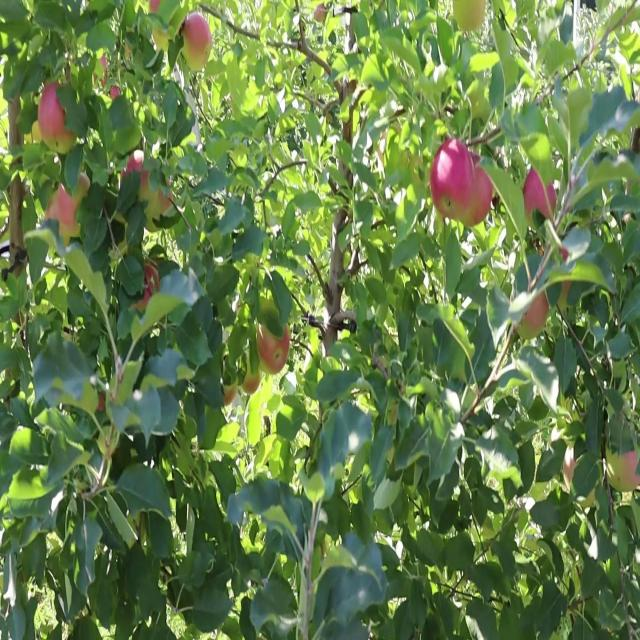apple: (432, 142, 471, 219), (520, 255, 551, 340), (40, 85, 78, 148), (57, 170, 91, 238), (48, 184, 84, 247), (464, 156, 495, 229), (256, 321, 292, 377), (524, 170, 559, 222), (520, 284, 551, 340), (608, 444, 640, 496), (40, 85, 67, 142), (140, 170, 175, 213), (452, 0, 488, 36), (136, 263, 161, 311), (88, 449, 118, 489), (184, 14, 212, 52), (56, 113, 79, 155), (120, 149, 146, 181), (56, 120, 79, 156), (96, 426, 120, 460), (156, 177, 175, 213), (184, 49, 210, 73), (244, 369, 262, 398), (564, 447, 577, 487), (32, 120, 47, 144), (224, 383, 238, 407), (148, 1, 161, 14)
